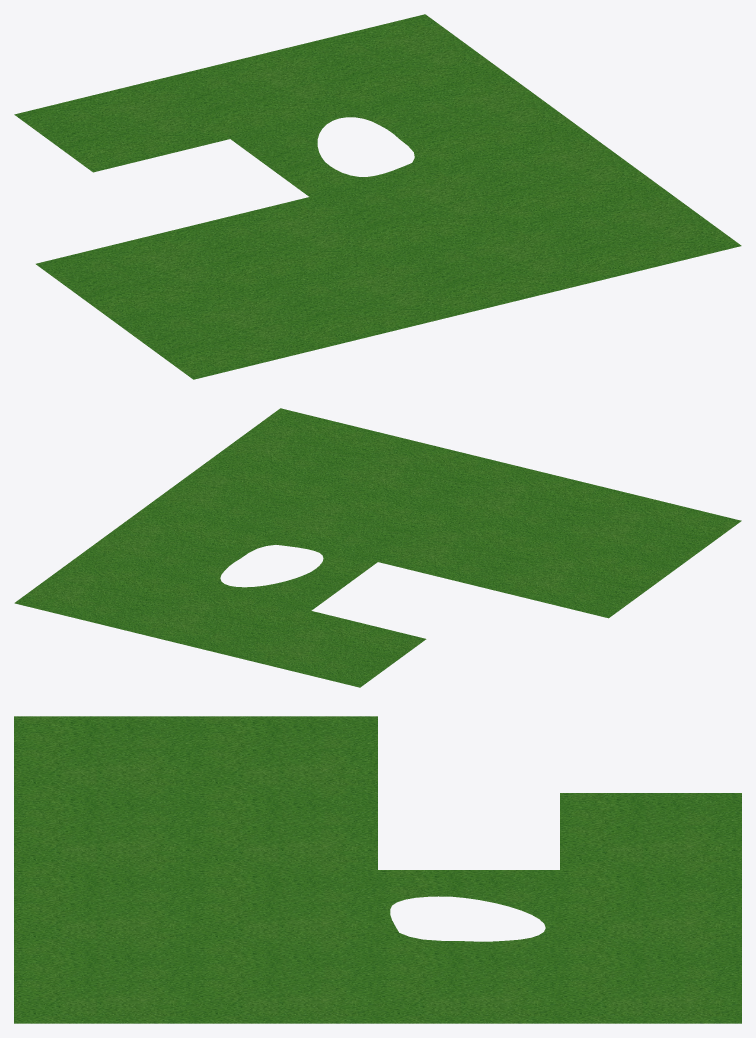
Rendered from cource05grassF03.obj.
3 views of the same model, one above another, from view 1: azimuth 30°, elevation 25°; view 2: azimuth 150°, elevation 25°; view 3: azimuth 270°, elevation 25° (orthographic). The views are drawn at different scales.
Size of the model in its own units: 1600 by 0 by 1600.
